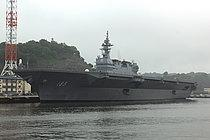MIL_Ship: (12, 34, 194, 102)
